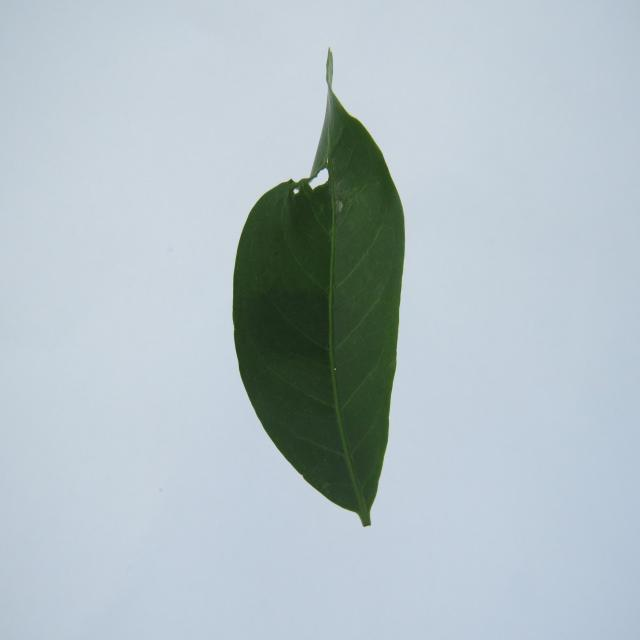DeficienciaNutricional-Calcio: (232, 50, 405, 527)
